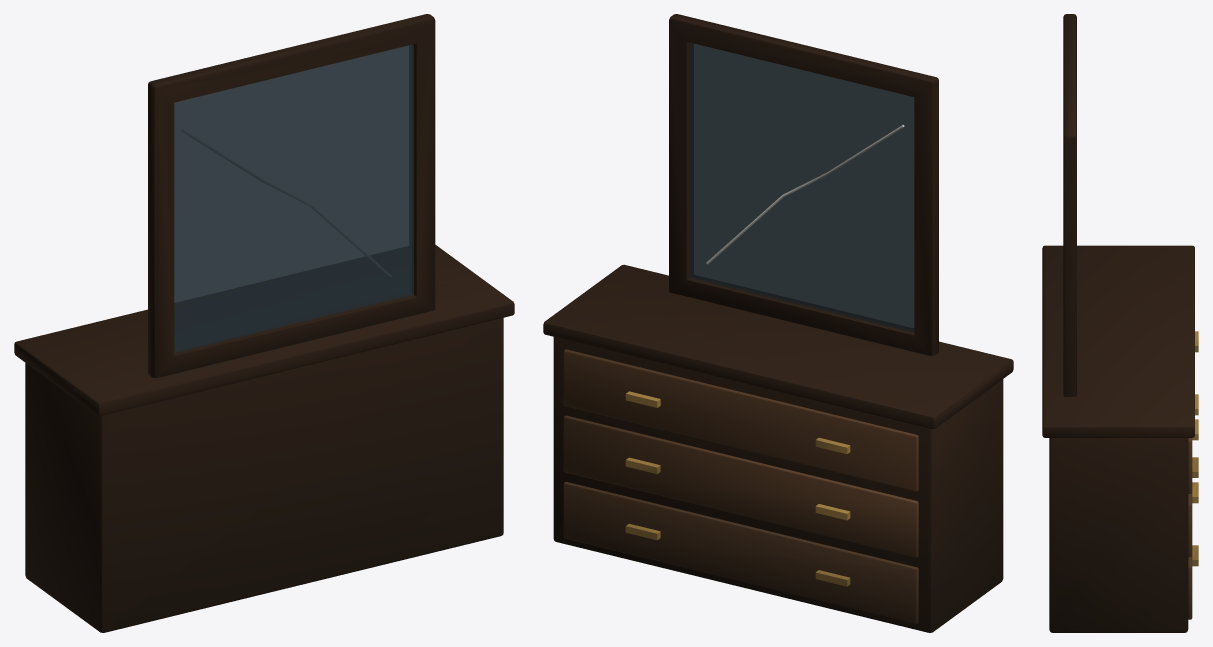
Rendered from Dresser.glb.
3 renders of one model, left to right at view 1: azimuth 30°, elevation 25°; view 2: azimuth 150°, elevation 25°; view 3: azimuth 270°, elevation 25°, orthographic. The views are drawn at different scales.
Parts seen in each view (by area): view 1: Dresser_wood_dark, Dresser_glass_dark; view 2: Dresser_wood_dark, Dresser_wood, Dresser_glass_dark, Dresser_brass, Dresser_paint_white; view 3: Dresser_wood_dark, Dresser_wood, Dresser_brass.
Boxes of the visible parts, x1,y1,x2,y2 form: Dresser_wood_dark: (14, 14, 514, 632); Dresser_glass_dark: (174, 44, 413, 353); Dresser_wood_dark: (543, 14, 1013, 632); Dresser_wood: (563, 349, 918, 623); Dresser_glass_dark: (689, 42, 914, 332); Dresser_brass: (625, 391, 850, 586); Dresser_paint_white: (706, 125, 904, 264); Dresser_wood_dark: (1042, 14, 1194, 632); Dresser_wood: (1188, 438, 1192, 619); Dresser_brass: (1192, 331, 1198, 566).
Bounding box in the file's own units: 6.2 × 7.5 × 2.25.
